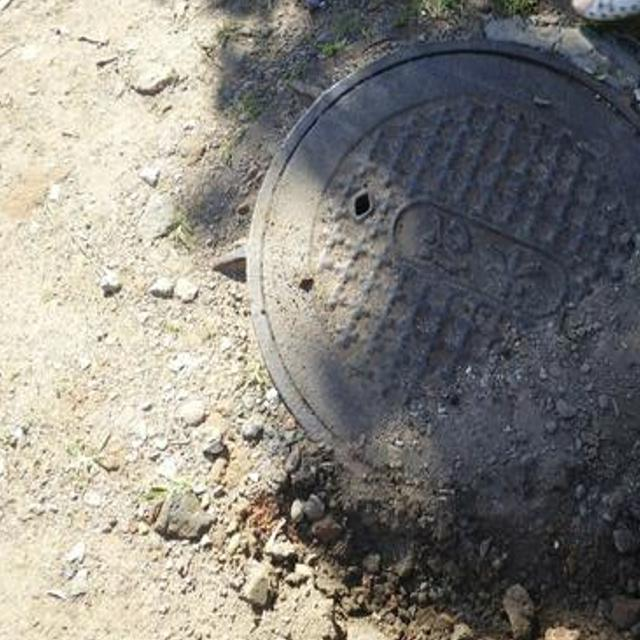circle: (132, 24, 640, 578)
